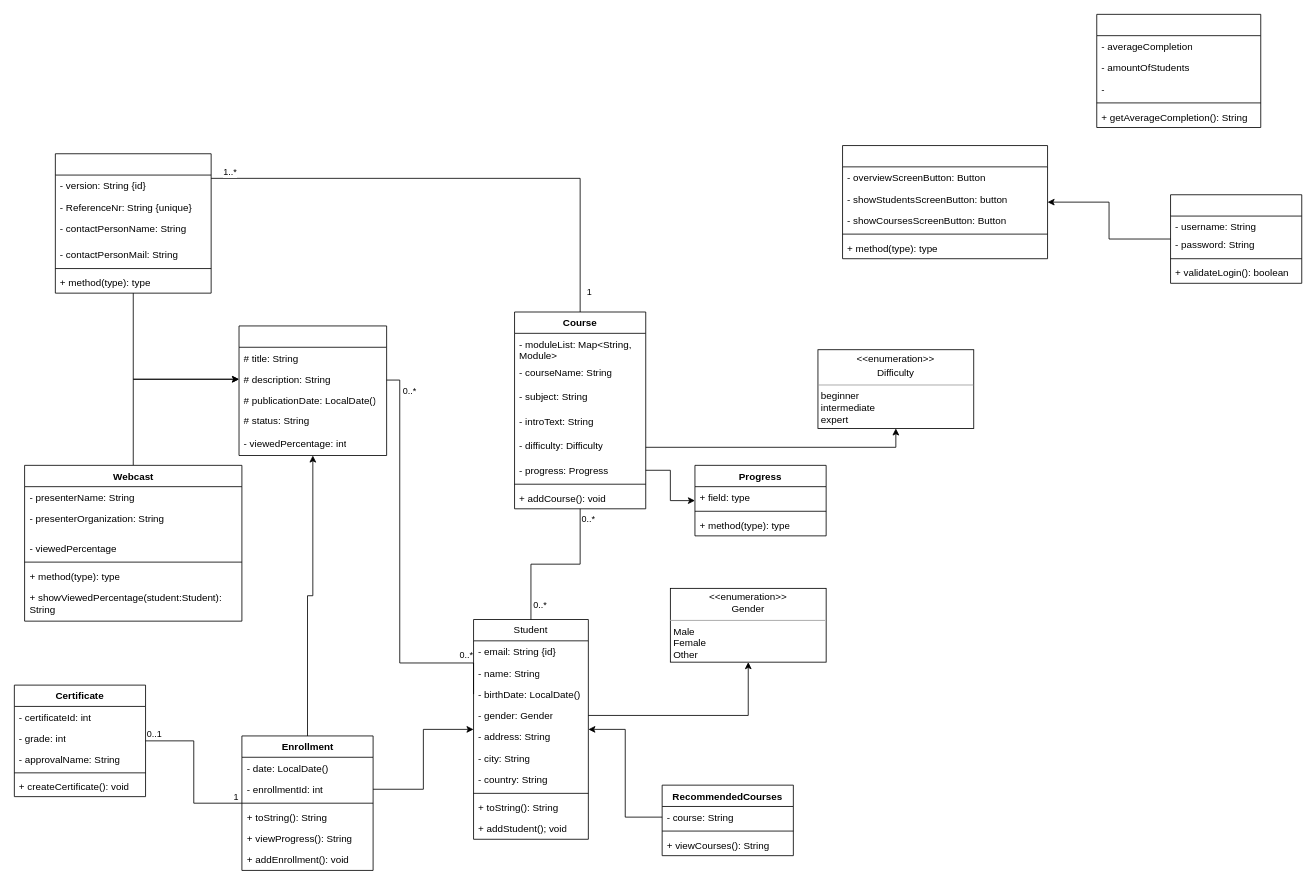
This 1316x887 diagram has some shape labels left out. The box of each missing label's shape, as (x1, y1, x2, y2) in pixels:
Content: (238, 325, 387, 456)
LoginScreen: (1170, 194, 1302, 283)
mainScreen: (842, 145, 1048, 259)
Module: (55, 153, 211, 293)
Overview: (1096, 14, 1261, 128)
